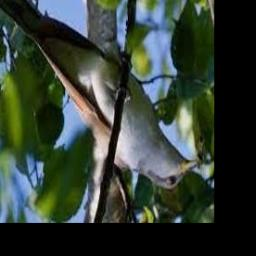Cuckoo: (0, 0, 197, 191)
